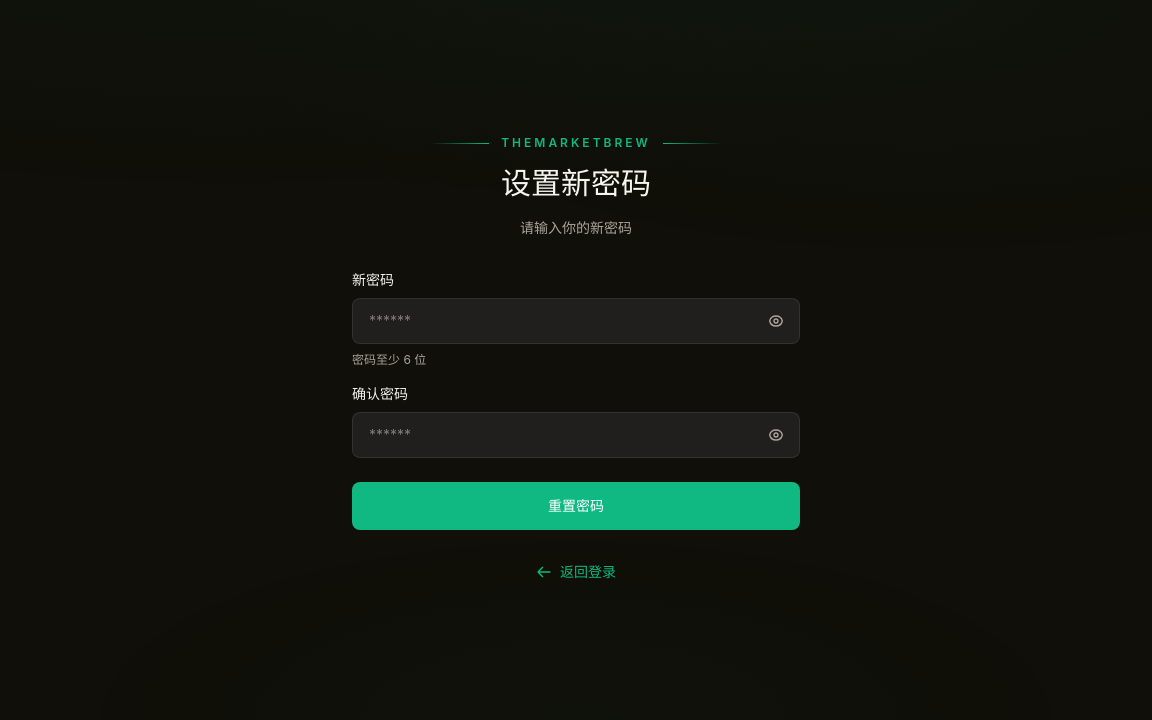
Test: /reset-password page › blocks submission when password is shorter than 6 characters
Type "12345" into the password field labelled "新密码". click: [576, 321]
box: [352,298,800,344]
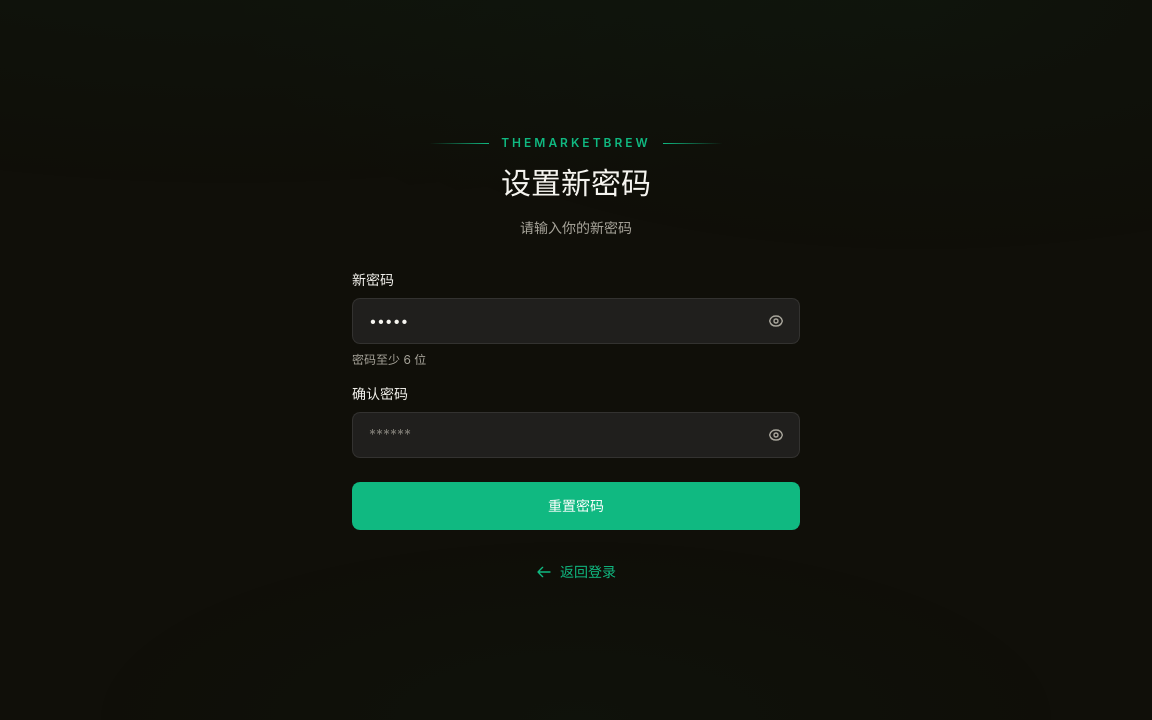
Type "12345" into the password field labelled "确认密码". click: [576, 435]
box: [352,412,800,458]
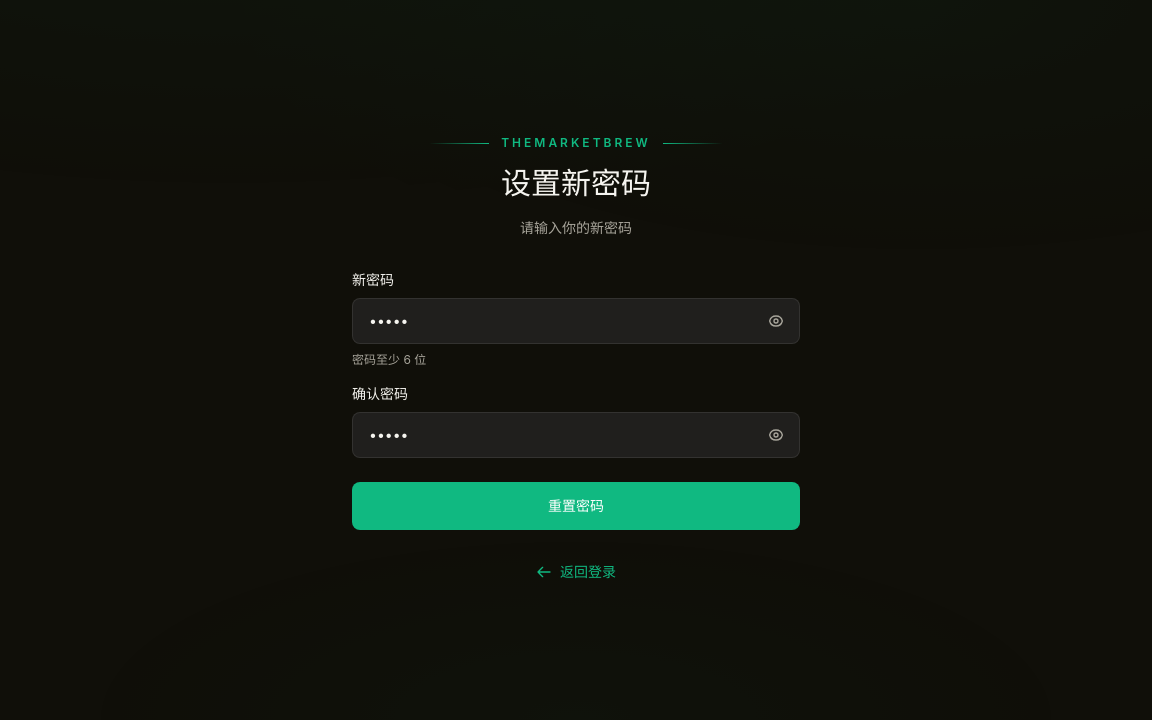
Click the button "重置密码". click: [576, 506]
box: [352,482,800,530]
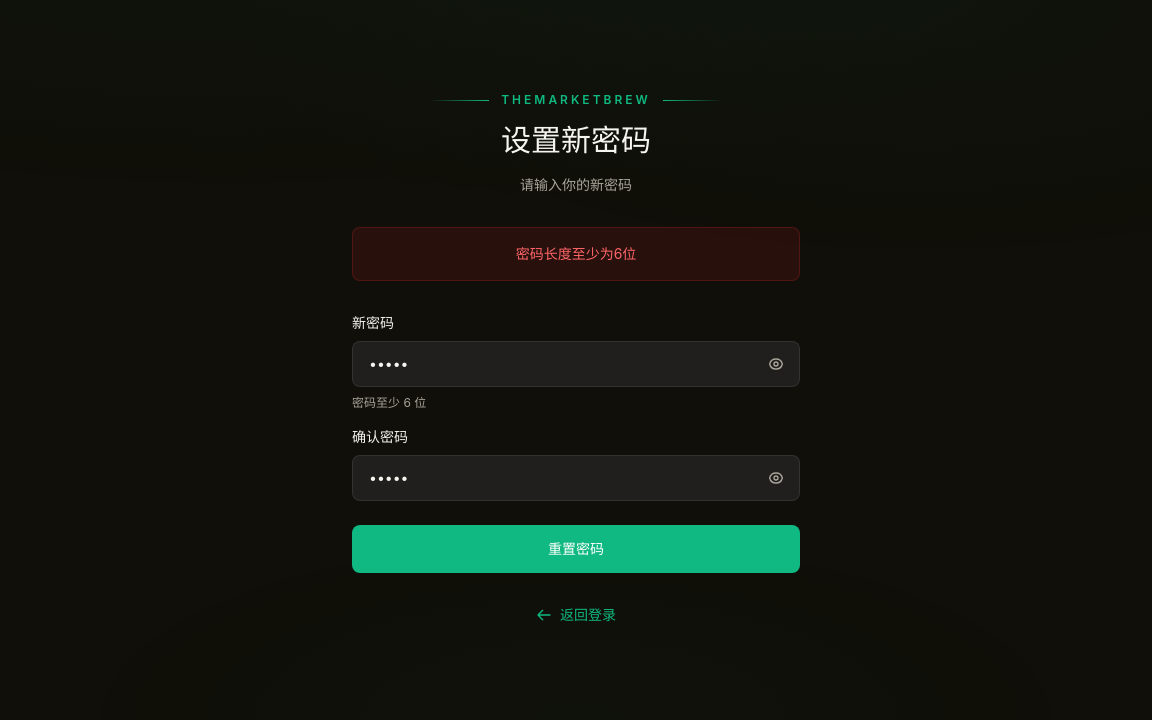
Expected: the text "密码长度至少为6位" is shown, [516,245,636,262]
